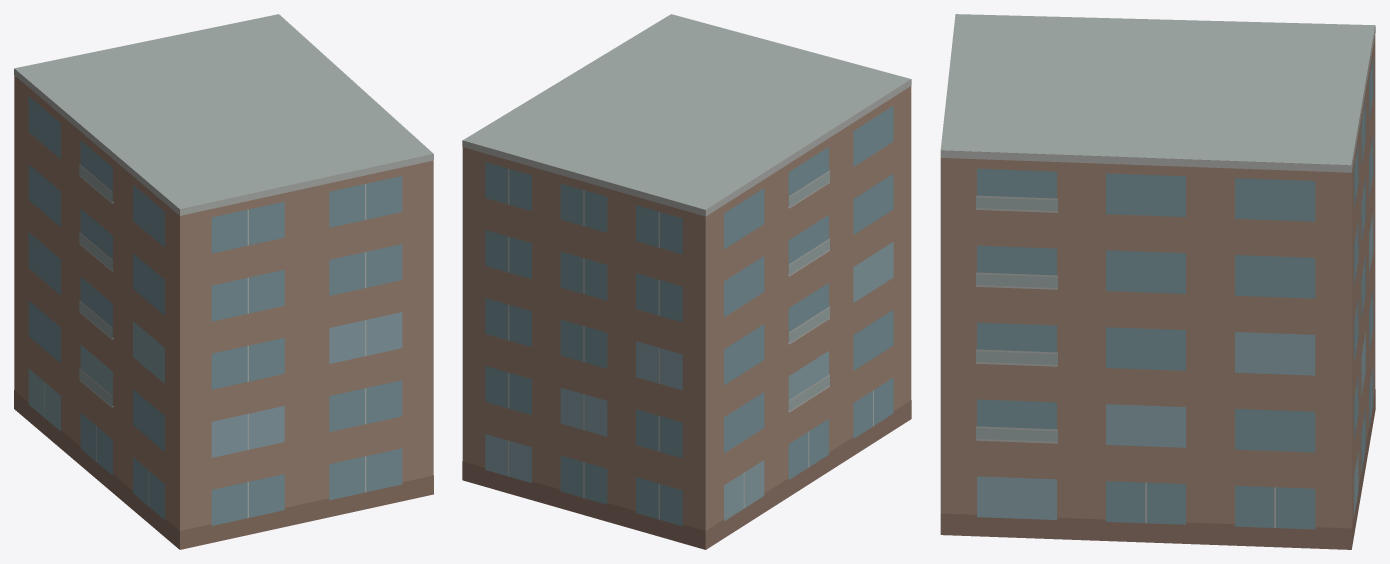
File: survey-upis-32754114.glb
3 renders of one model, left to right at view 1: azimuth 30°, elevation 25°; view 2: azimuth 150°, elevation 25°; view 3: azimuth 270°, elevation 25°, orthographic. The views are drawn at different scales.
Parts seen in each view (by area): view 1: survey-upis-32754114.tmp; view 2: survey-upis-32754114.tmp; view 3: survey-upis-32754114.tmp.
Boxes of the visible parts, x1=… form: survey-upis-32754114.tmp: x1=14, y1=14, x2=433, y2=549; survey-upis-32754114.tmp: x1=462, y1=14, x2=911, y2=549; survey-upis-32754114.tmp: x1=940, y1=14, x2=1375, y2=549.
Size of the model in its own units: 10.55 by 12.5 by 12.82.
